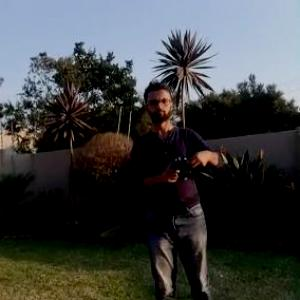follow: (127, 71, 228, 299)
